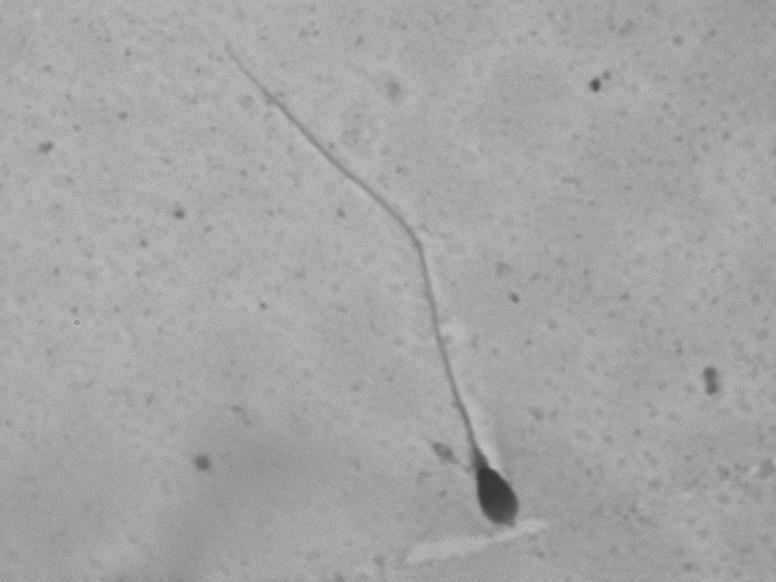Abnormal: (213, 60, 549, 550)
